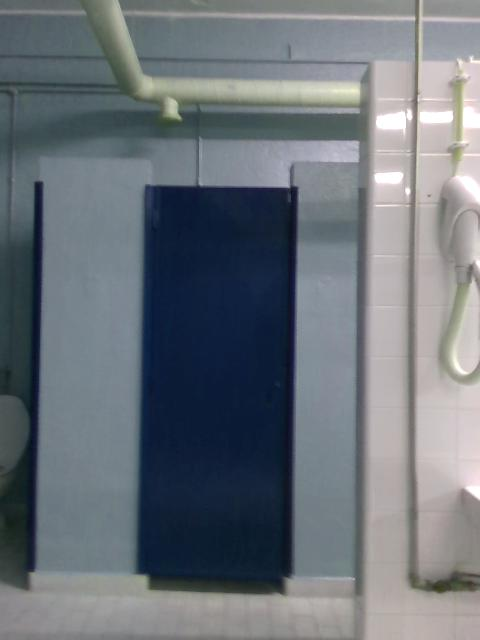closed_door: (137, 184, 295, 582)
